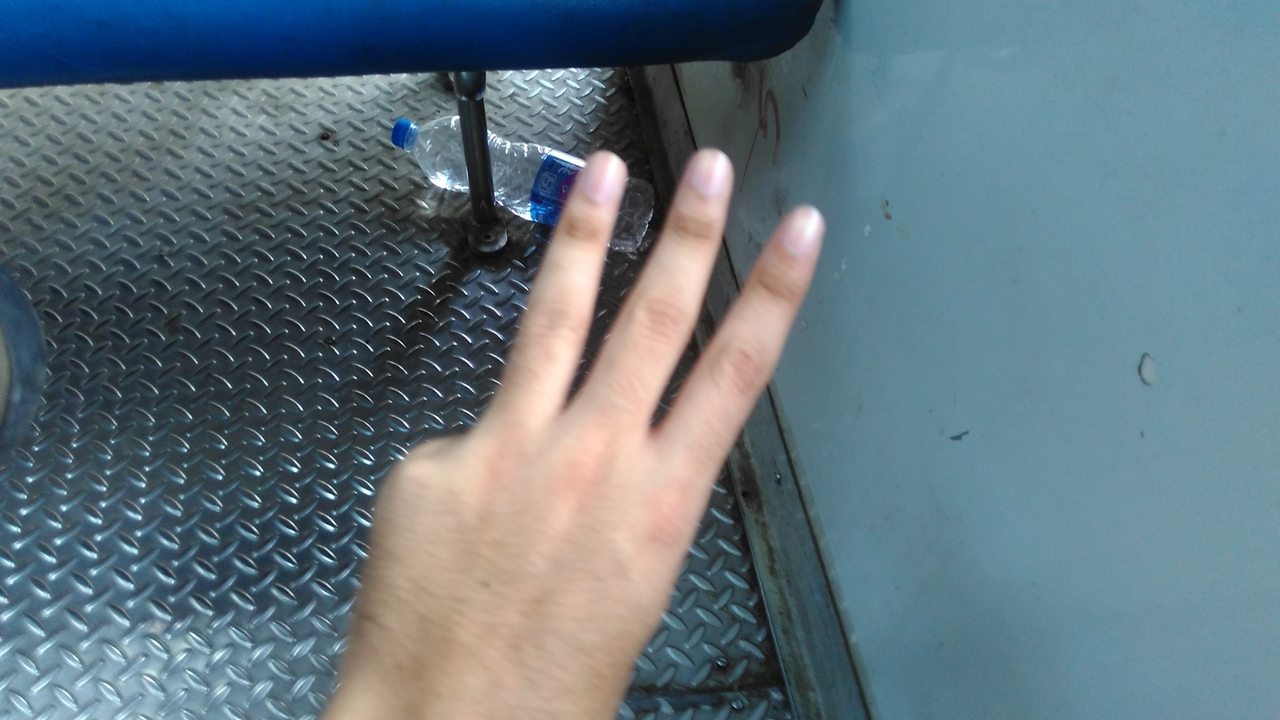fingertip: (668, 140, 742, 208), (564, 140, 638, 208), (768, 196, 834, 262)
